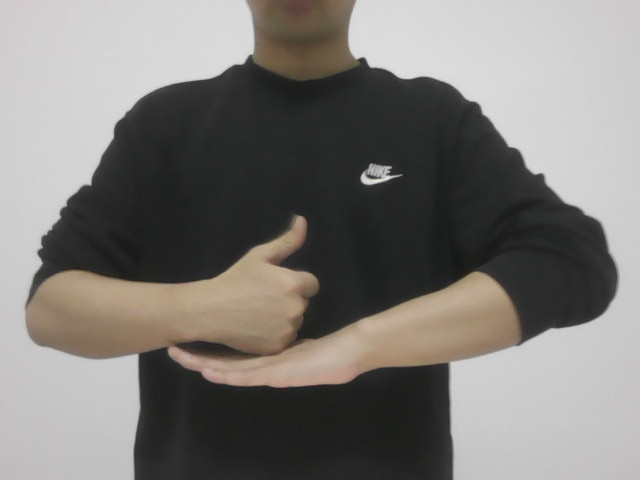new: (160, 202, 377, 397)
